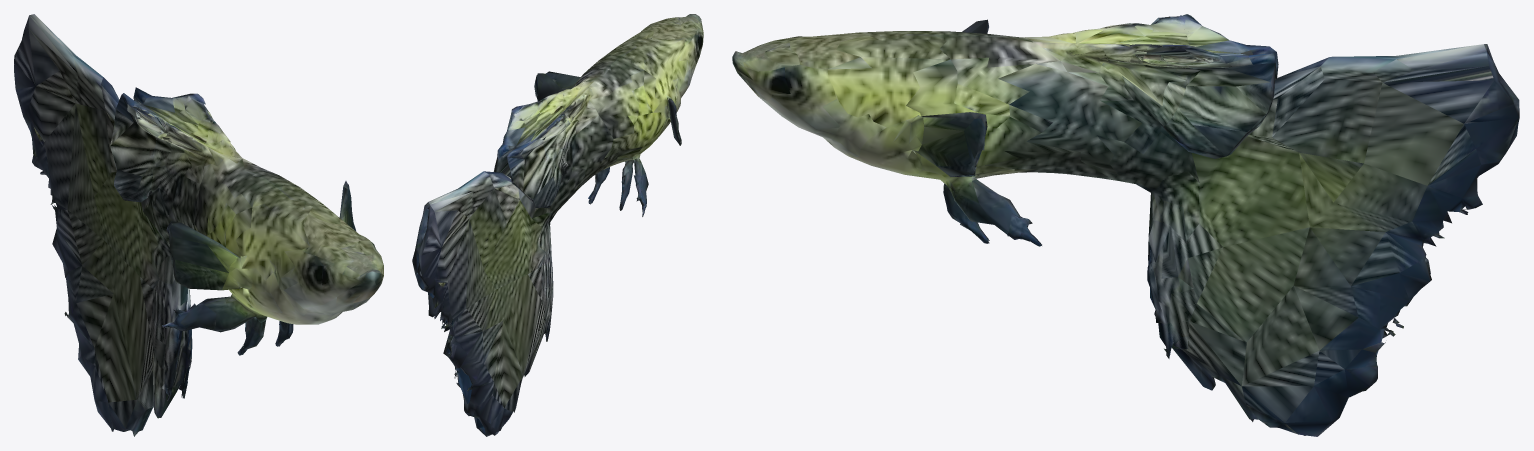
File: strain-green_snakeskin.lo.glb
3 views of the same model, side by side, from view 1: azimuth 30°, elevation 25°; view 2: azimuth 150°, elevation 25°; view 3: azimuth 270°, elevation 25° (orthographic). The views are drawn at different scales.
Visible parts, largest first — view 1: Mesh_0.001; view 2: Mesh_0.001; view 3: Mesh_0.001.
Part boxes in pixels (box(x1,y1,x2,y2)): Mesh_0.001: box(14, 14, 383, 436); Mesh_0.001: box(412, 14, 703, 436); Mesh_0.001: box(732, 14, 1519, 436).
Size of the model in its own units: 0.0113 by 0.0217 by 0.0381.
Materials: 2 (2 with a texture image).
